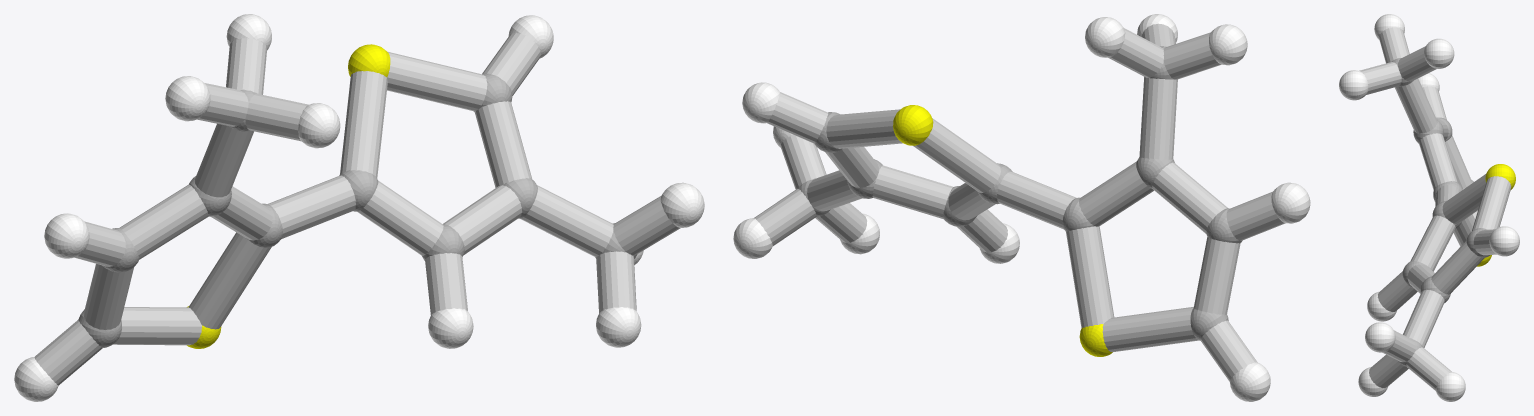
Rendered from Methylthiophene_Phi_10_Theta_300_Methylthiophene.glb.
3 renders of one model, left to right at view 1: azimuth 30°, elevation 25°; view 2: azimuth 150°, elevation 25°; view 3: azimuth 270°, elevation 25°, orthographic. The views are drawn at different scales.
Parts seen in each view (by area): view 1: grp7965, grp3621, grp1, grp7241; view 2: grp7965, grp3621, grp1, grp7241; view 3: grp7965, grp3621, grp1, grp7241.
Boxes of the visible parts, <box> form: grp7965: <box>34,32,680,385</box>; grp3621: <box>14,14,704,401</box>; grp1: <box>78,73,634,347</box>; grp7241: <box>187,44,390,348</box>; grp7965: <box>754,23,1285,381</box>; grp3621: <box>733,14,1310,401</box>; grp1: <box>798,46,1242,340</box>; grp7241: <box>893,105,1112,356</box>; grp7965: <box>1359,27,1511,390</box>; grp3621: <box>1339,14,1519,401</box>; grp1: <box>1391,58,1490,366</box>; grp7241: <box>1477,164,1515,266</box>.
Bounding box in the file's own units: 9.47 × 5.42 × 3.55.
